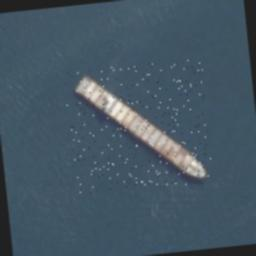boat: (66, 69, 213, 182)
